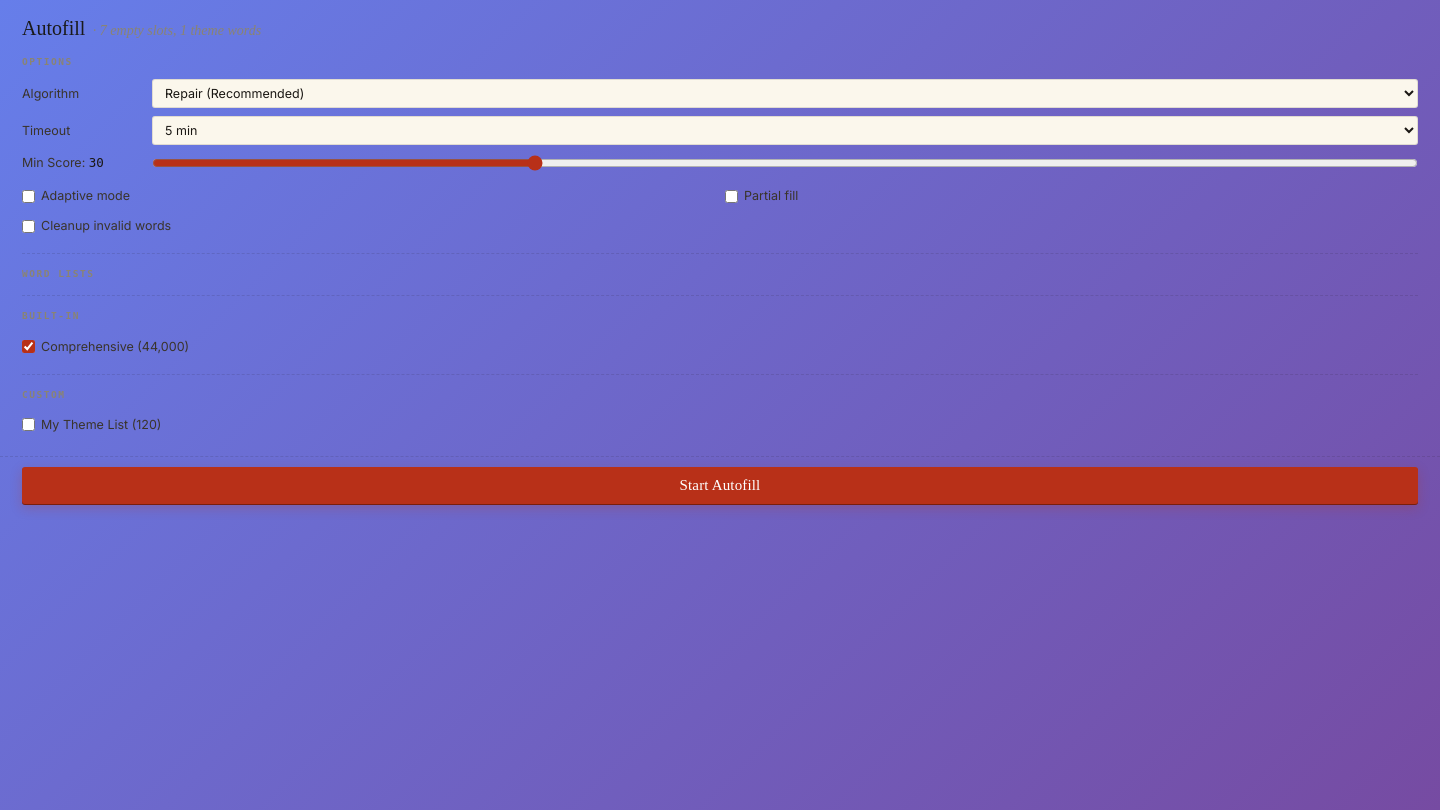
Test: AutofillPanel Start gating and hints (spec 0.2.7 section 2.3 I5, P18) › all word lists unticked: Start disabled, the word-list hint shown, the slot hint not
This screenshot has width=1440, height=810.
Click the checkbox labelled "Comprehensive (44,000)" at (28, 347), box left=22, top=340, right=35, bottom=353
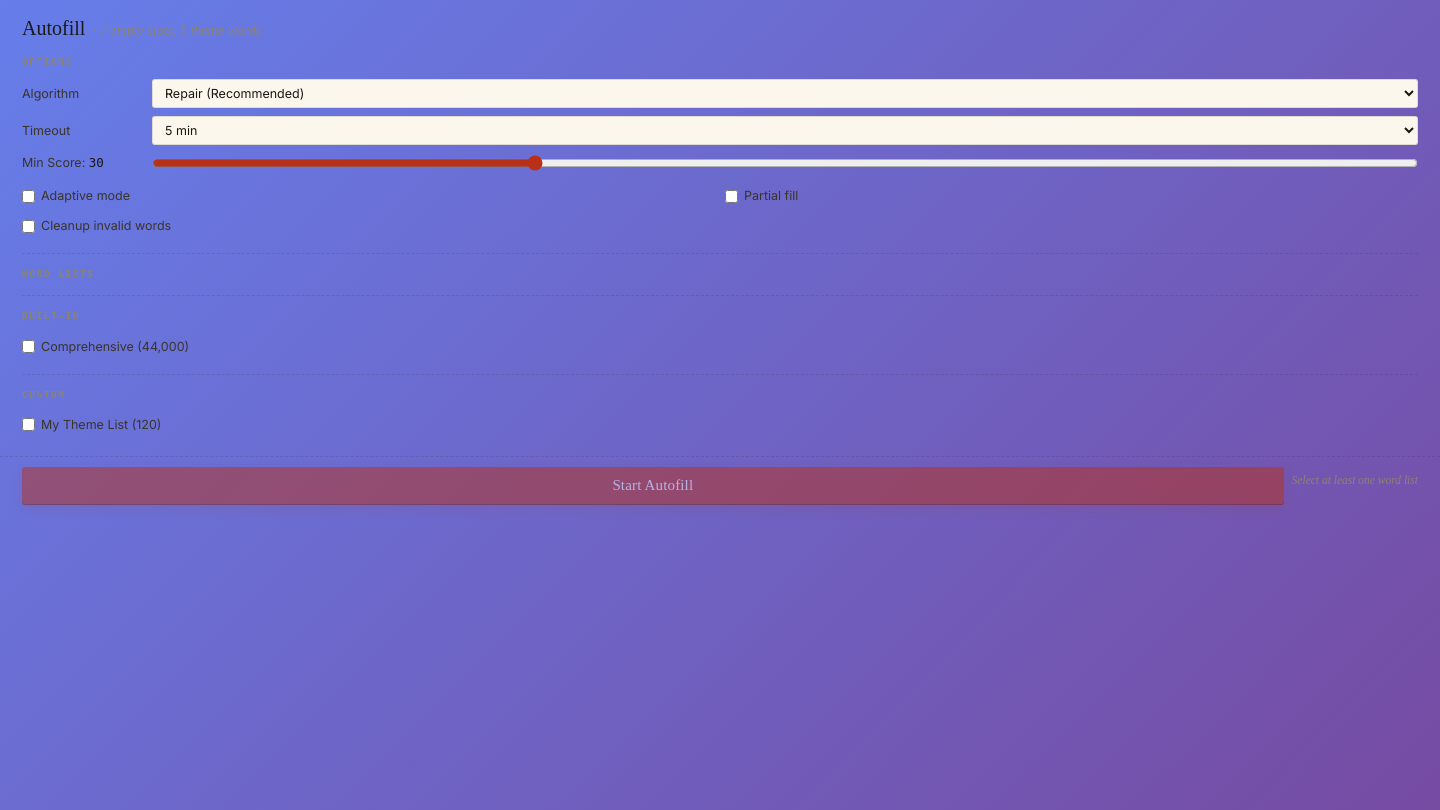
Check: the button "Start Autofill" is disabled, box left=22, top=467, right=1284, bottom=504
Check: the text "Select at least one word list" is shown, box left=1292, top=474, right=1418, bottom=486
